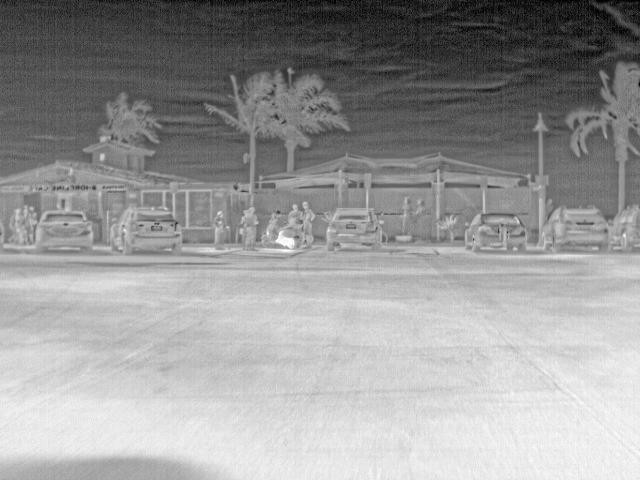car: (109, 205, 183, 256), (538, 203, 610, 253), (325, 207, 385, 252), (464, 213, 527, 253), (38, 210, 94, 253), (610, 206, 639, 252)
person: (243, 207, 261, 248), (301, 200, 316, 248), (25, 204, 38, 246), (214, 210, 227, 252), (11, 208, 24, 248), (267, 212, 282, 231), (288, 203, 301, 223)
